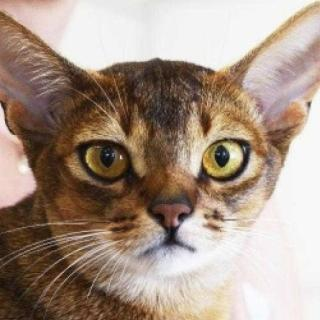cat: (0, 6, 320, 281)
nose: (142, 184, 195, 236)
